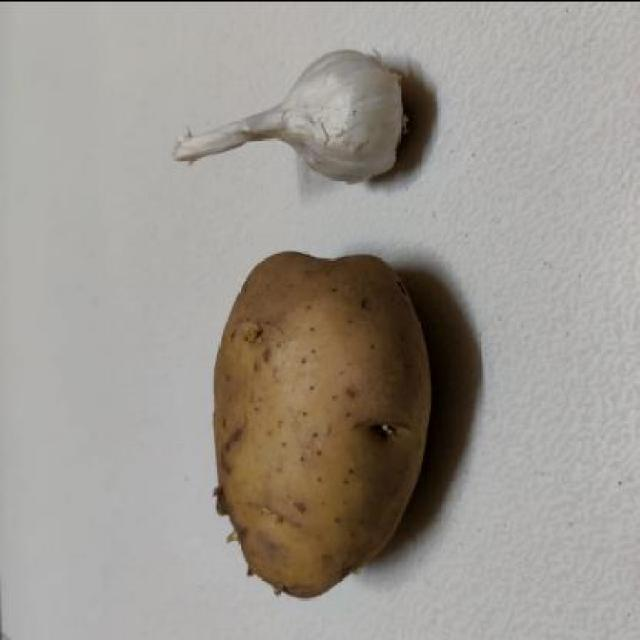Garlic: (162, 43, 448, 188)
Potato: (202, 214, 449, 638)
